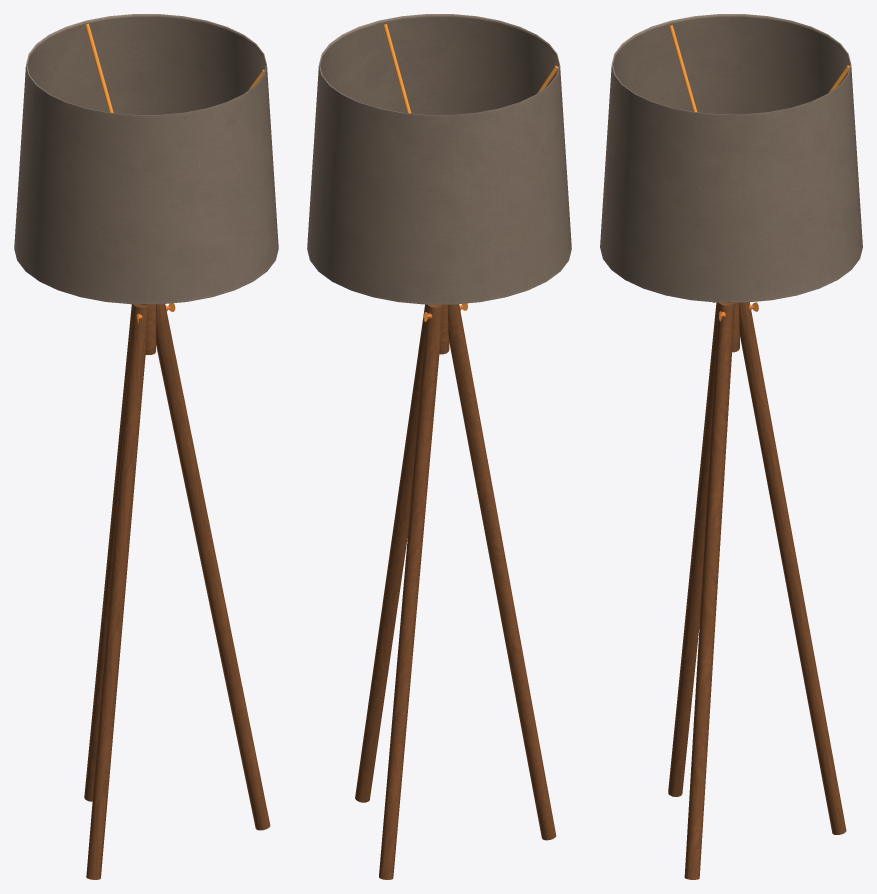
File: SM_Lamp_A1.fbx
The picture shows the model from 3 angles, left to right: view 1: azimuth 30°, elevation 25°; view 2: azimuth 150°, elevation 25°; view 3: azimuth 270°, elevation 25°; orthographic projection.
Visible parts, largest first — view 1: SM_Lamp_A1; view 2: SM_Lamp_A1; view 3: SM_Lamp_A1.
Boxes of the visible parts, box(x1,y1,x2,y2) form: SM_Lamp_A1: box(14, 14, 278, 879); SM_Lamp_A1: box(307, 14, 571, 879); SM_Lamp_A1: box(600, 14, 862, 879).
Size of the model in its own units: 49.8 by 50.08 by 162.
Materials: 1 (1 with a texture image).
